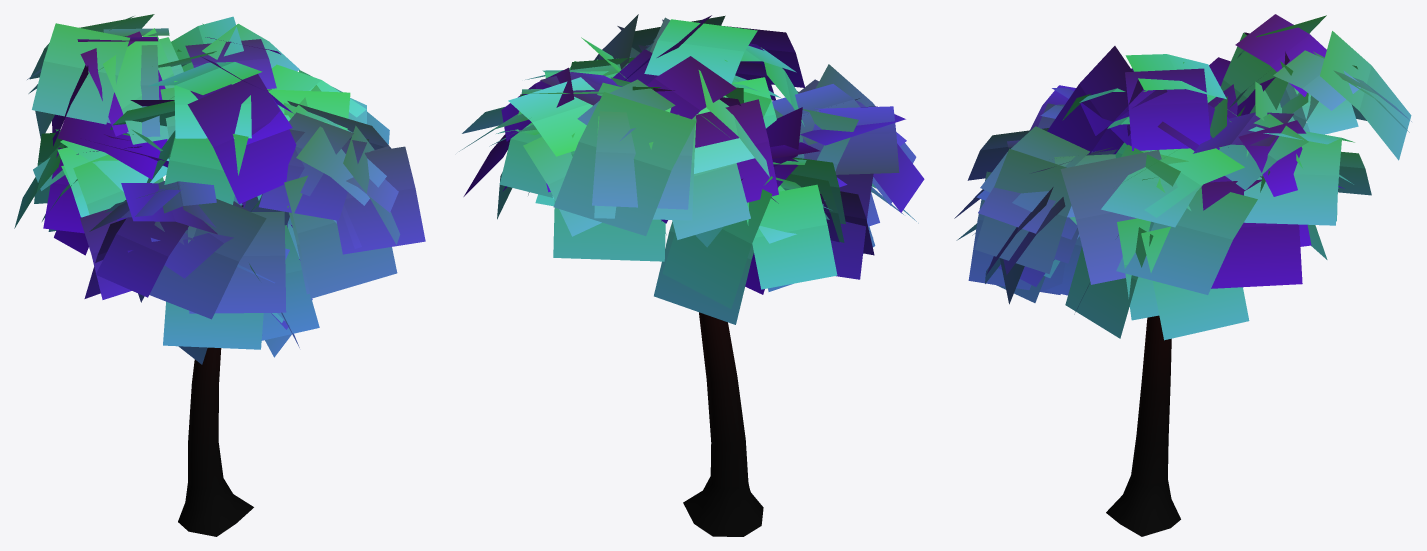
The model's file is Jungle2_LOD1.fbx.
3 renders of one model, left to right at view 1: azimuth 30°, elevation 25°; view 2: azimuth 150°, elevation 25°; view 3: azimuth 270°, elevation 25°, orthographic. The views are drawn at different scales.
Parts seen in each view (by area): view 1: Jungle2_Lite; view 2: Jungle2_Lite; view 3: Jungle2_Lite.
Boxes of the visible parts, bbox=[...] form: Jungle2_Lite: bbox=[14, 14, 425, 536]; Jungle2_Lite: bbox=[459, 14, 924, 536]; Jungle2_Lite: bbox=[954, 14, 1411, 536].
Bounding box in the file's own units: 15.77 × 19.14 × 16.87.
